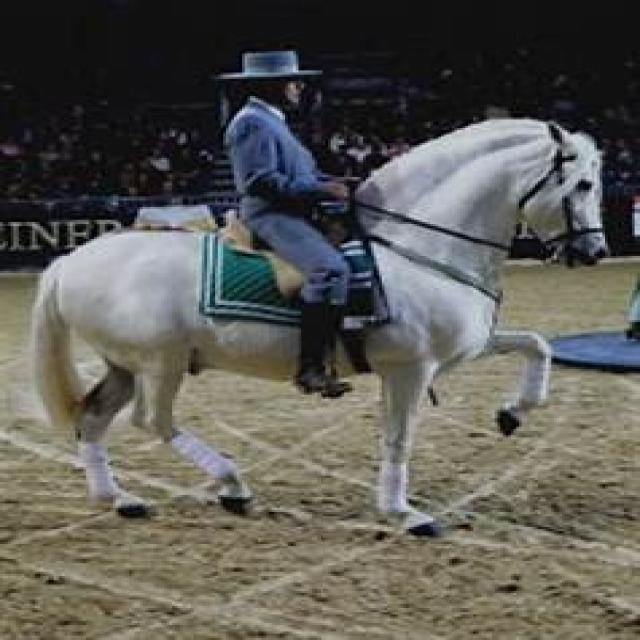horse: (27, 115, 610, 538)
